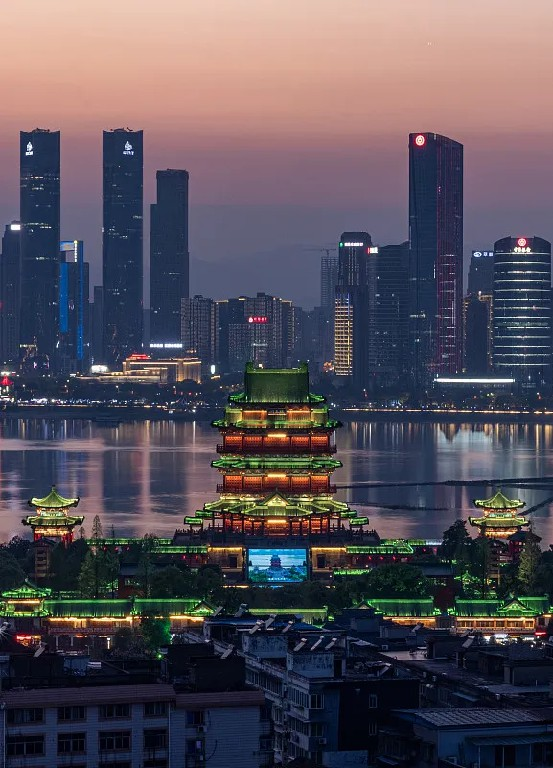Teng: (183, 363, 371, 537)
